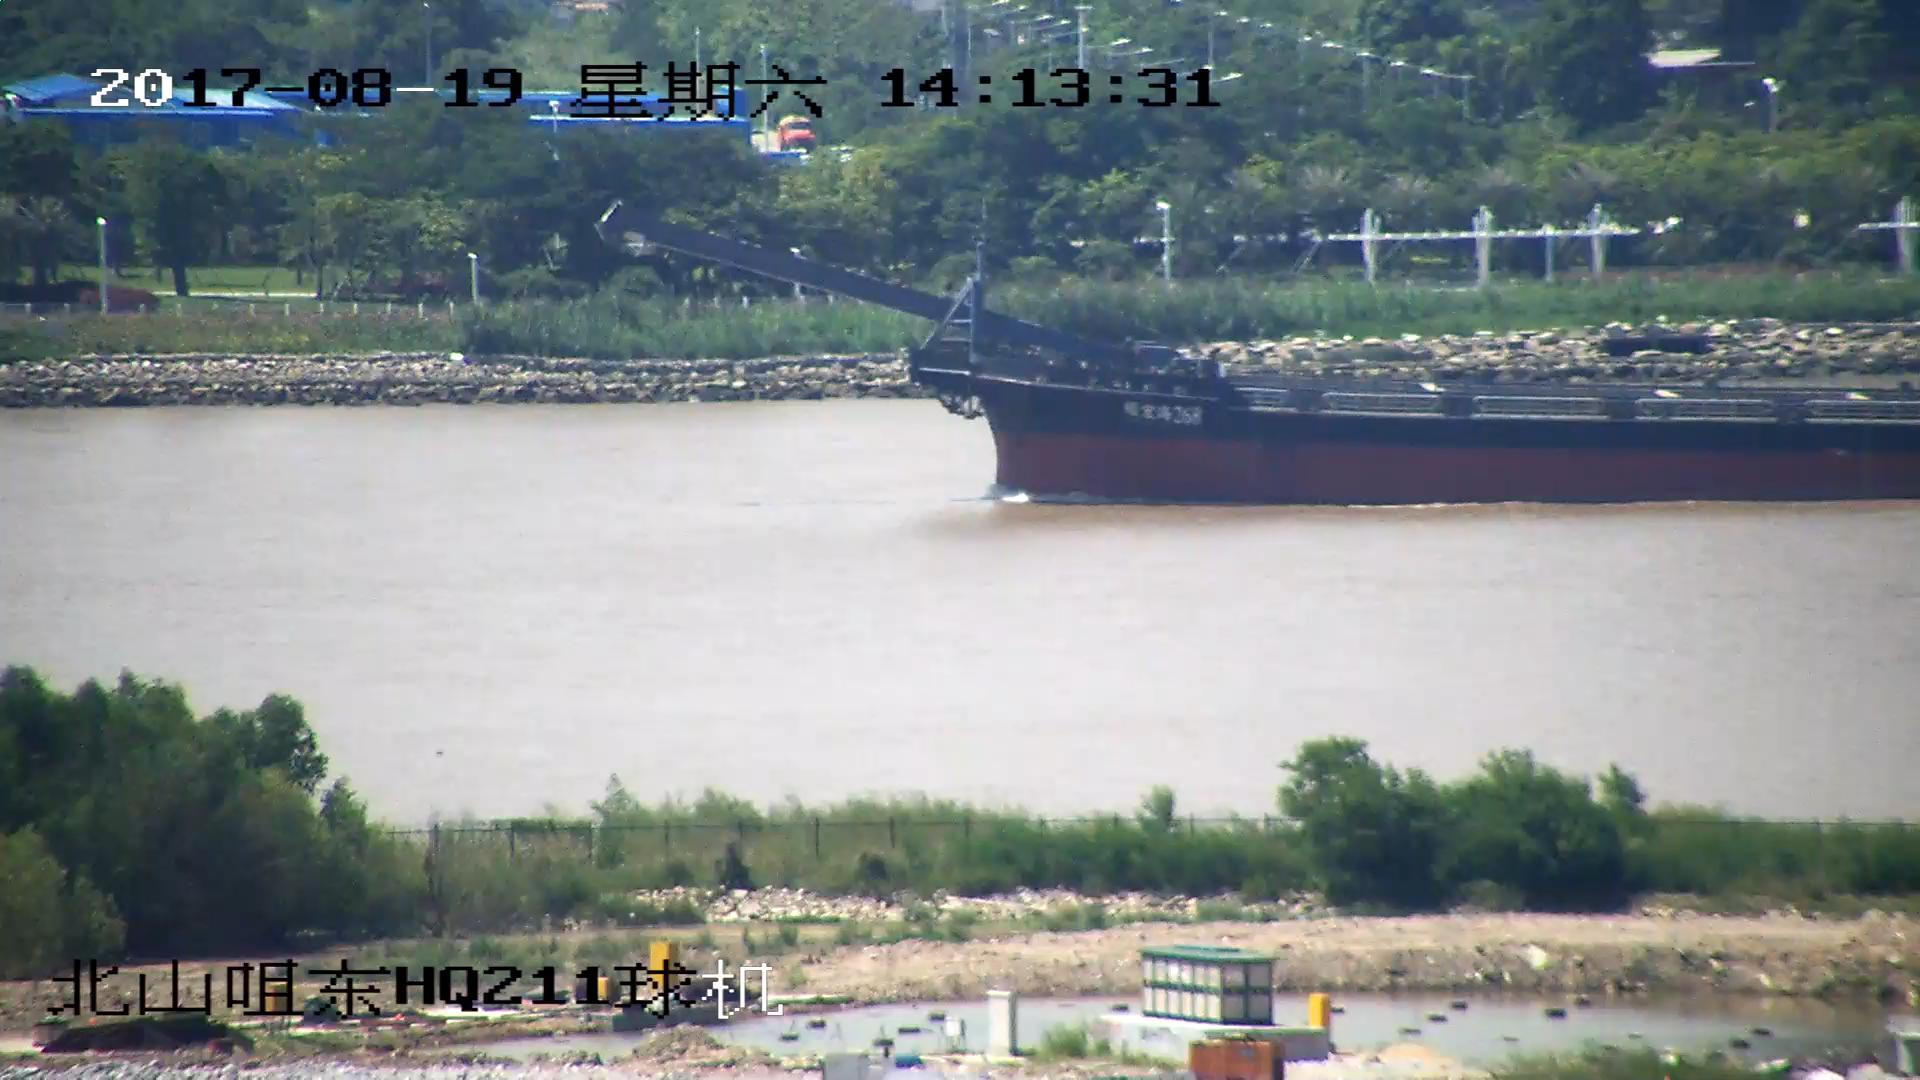Ship: (607, 203, 1920, 506)
